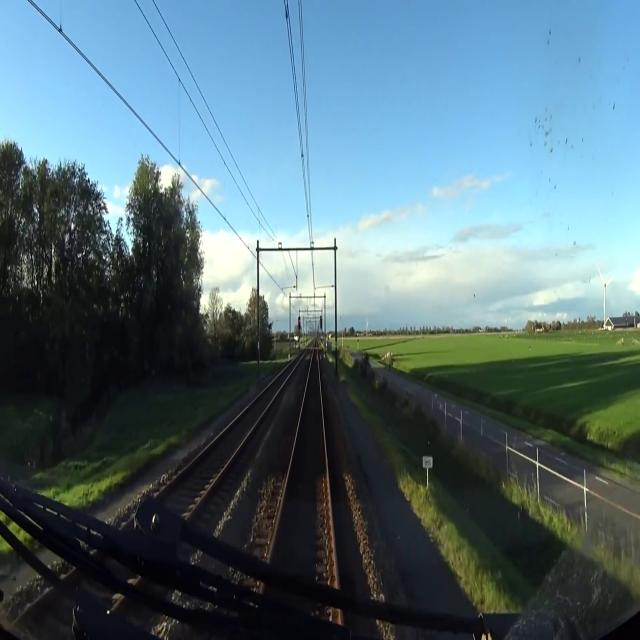rail-track: (158, 361, 295, 516), (270, 348, 335, 584)
